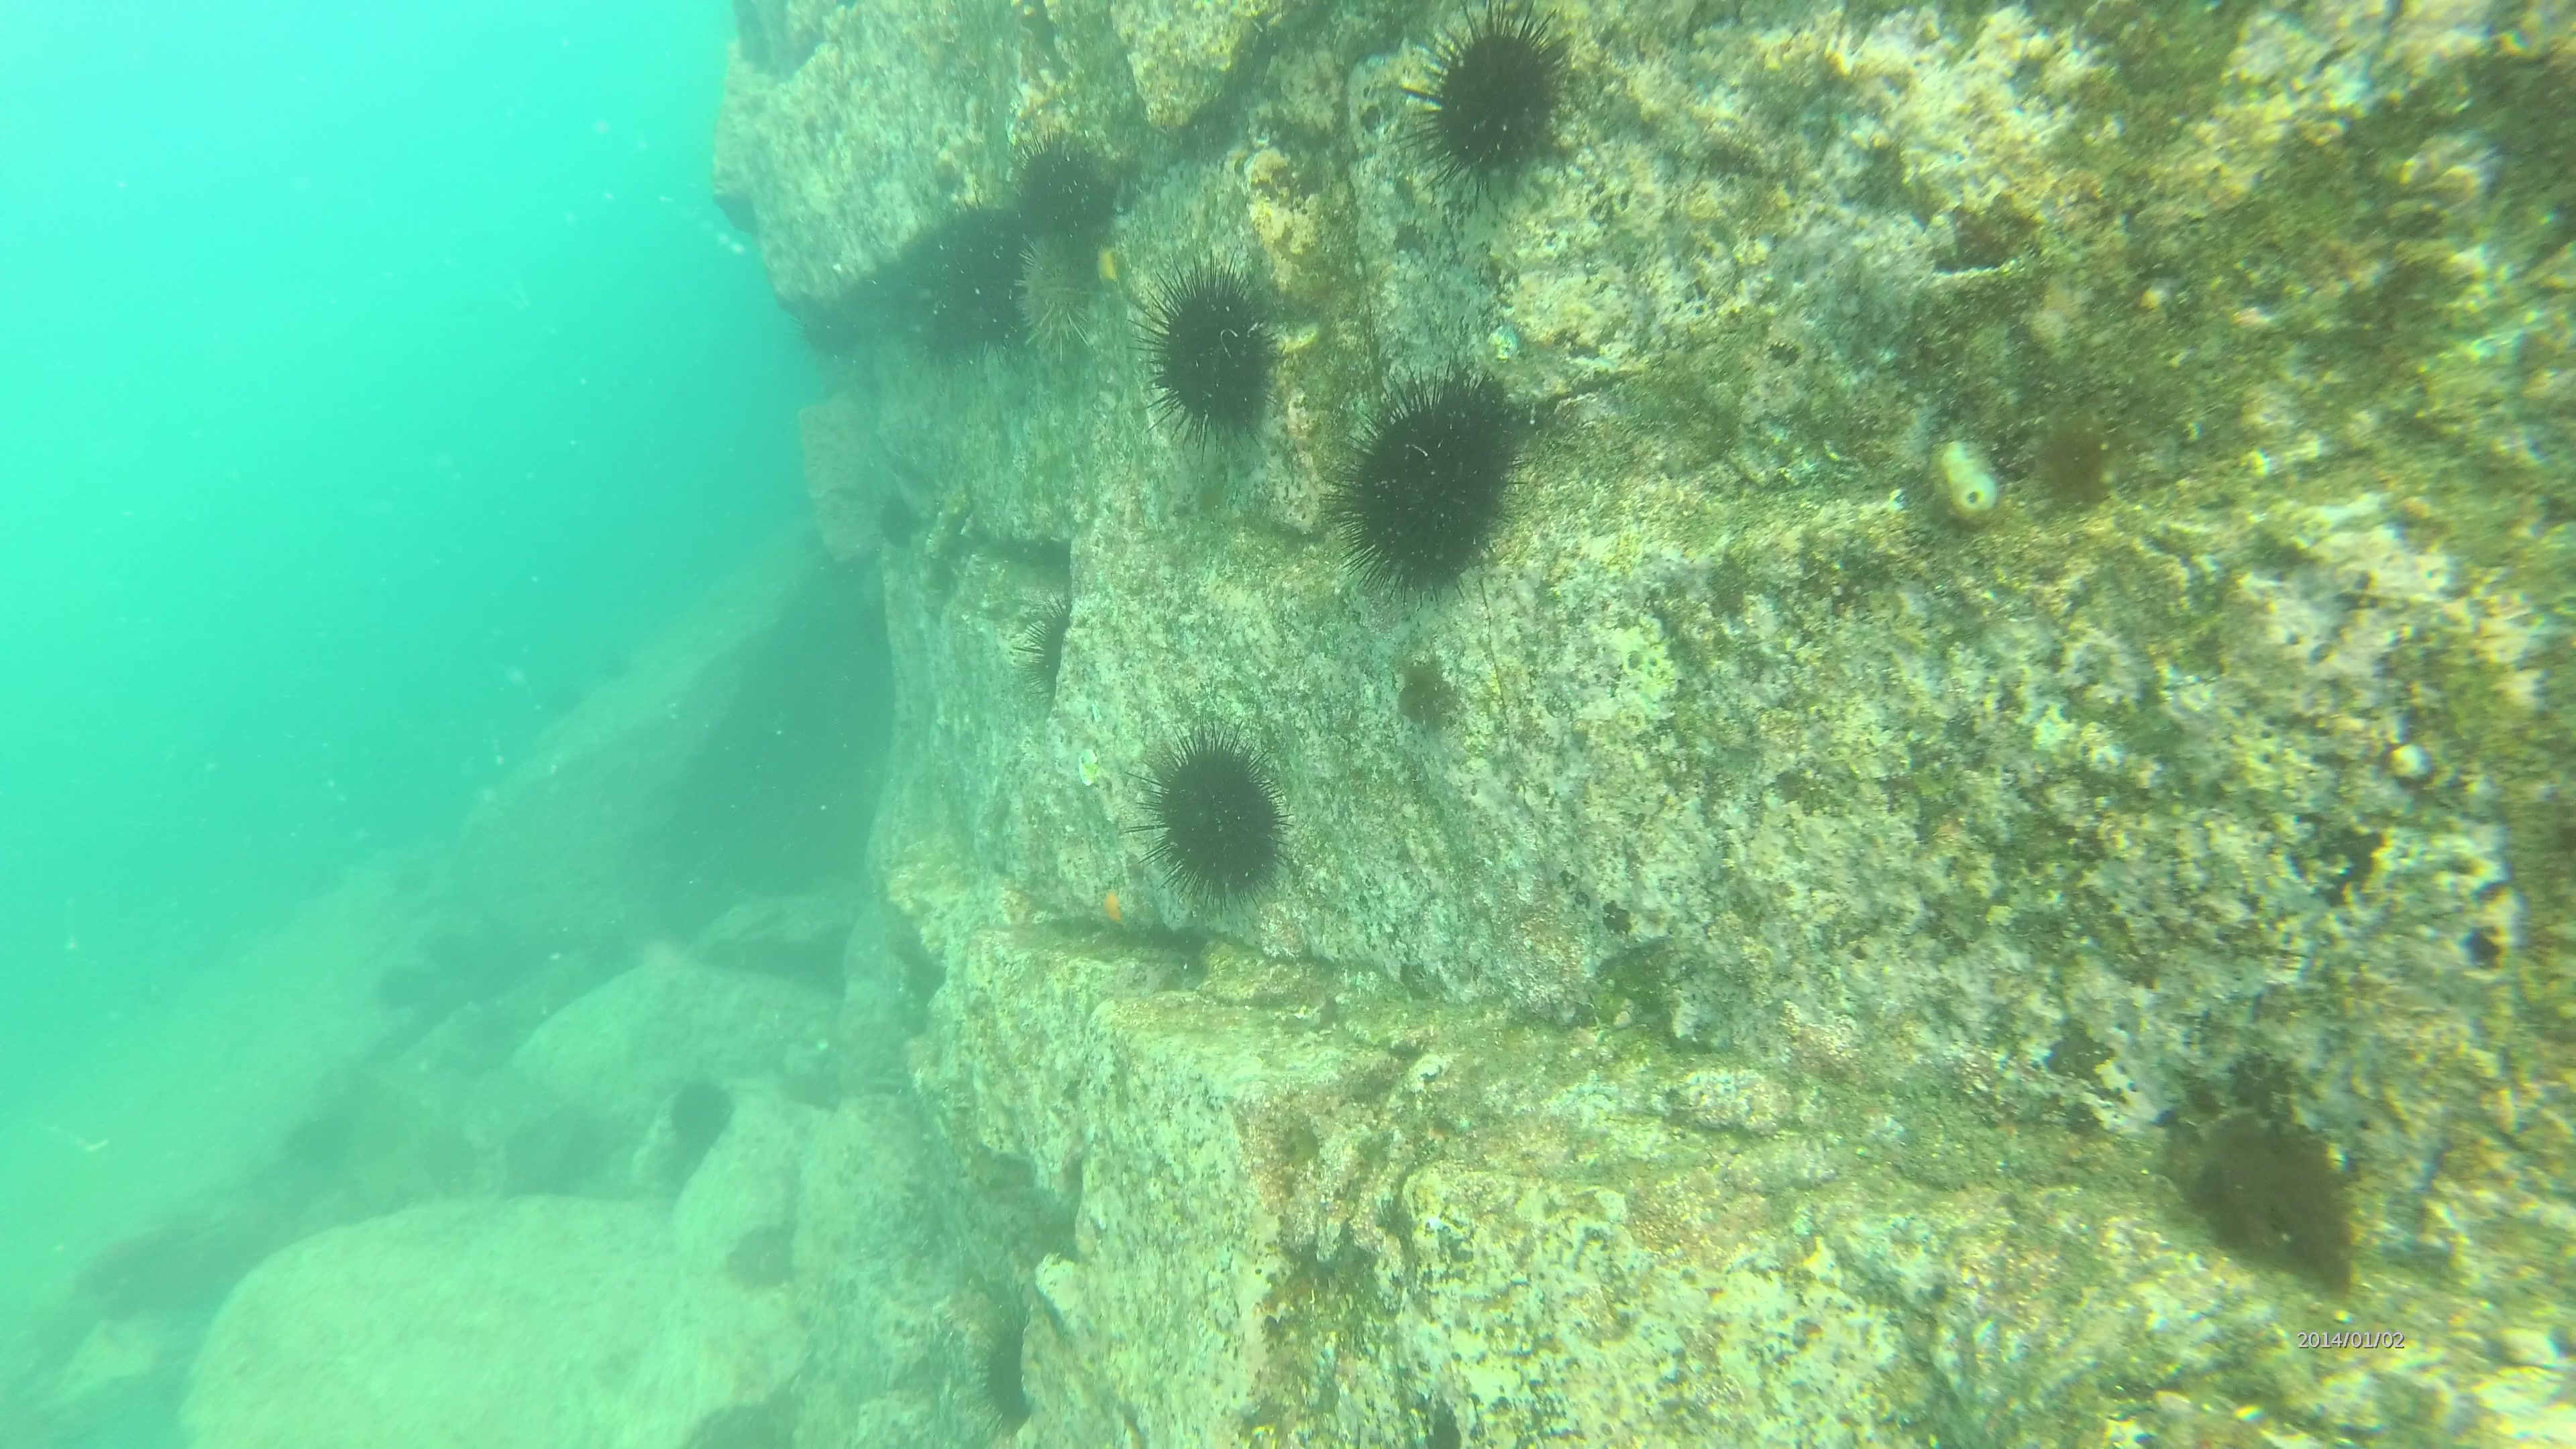echinus: (1343, 357, 1532, 609), (1407, 0, 1571, 193), (1138, 257, 1286, 444), (1141, 736, 1283, 918), (927, 195, 1040, 354), (1008, 230, 1099, 354), (1008, 133, 1097, 237), (1014, 589, 1085, 711), (966, 1320, 1042, 1428), (660, 1074, 741, 1155)
